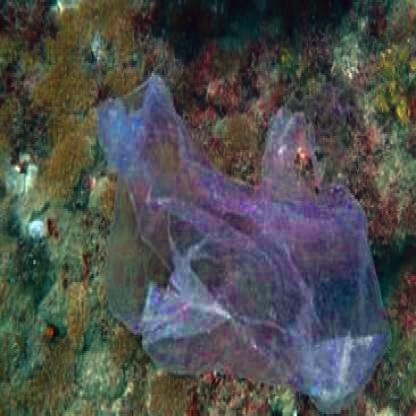plastic: (102, 116, 393, 404)
